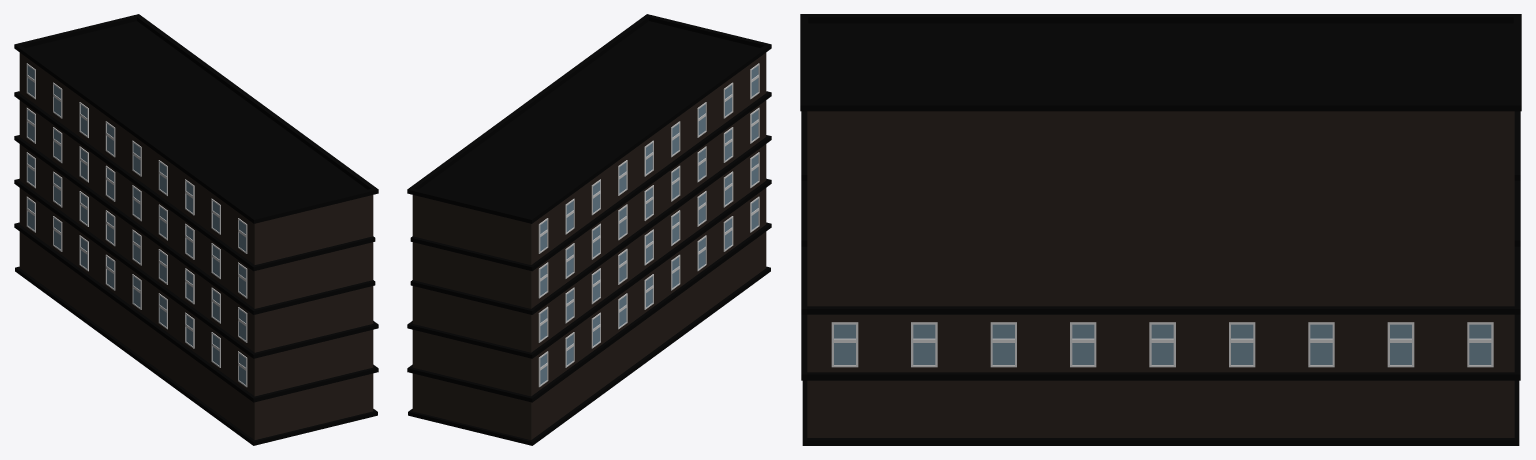
The picture shows the model from 3 angles, left to right: view 1: azimuth 30°, elevation 25°; view 2: azimuth 150°, elevation 25°; view 3: azimuth 270°, elevation 25°; orthographic projection. The views are drawn at different scales.
Visible parts, largest first — view 1: volks fahrrad; view 2: volks fahrrad; view 3: volks fahrrad.
Part boxes in pixels (left/top/right/bottom): volks fahrrad: left=14, top=14, right=378, bottom=445; volks fahrrad: left=407, top=14, right=771, bottom=445; volks fahrrad: left=800, top=14, right=1521, bottom=445.
Bounding box in the file's own units: 6.78 × 11.76 × 22.57.
